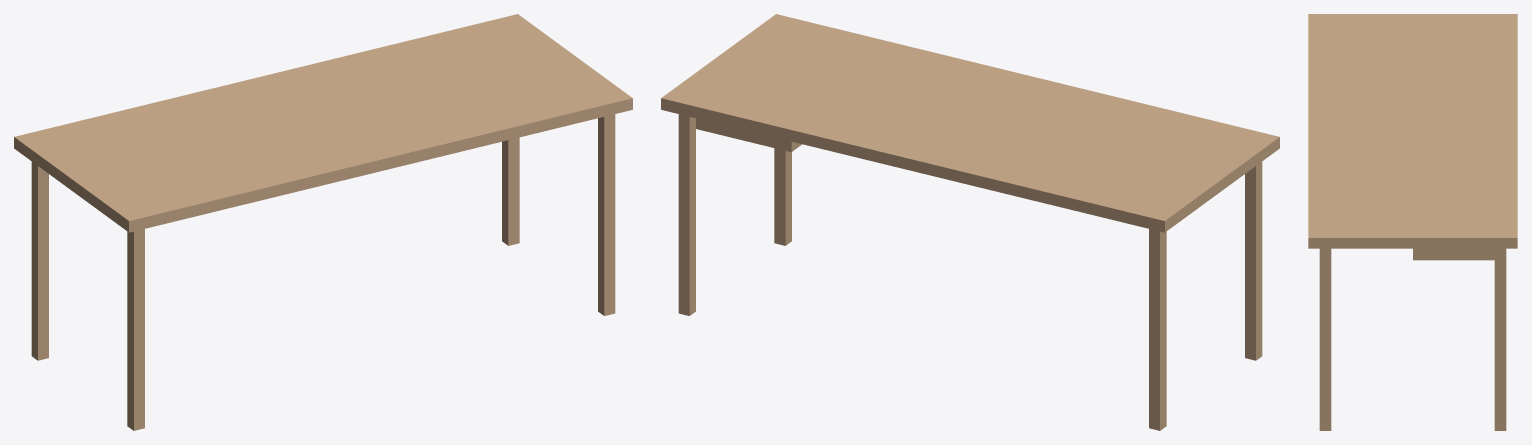
The model's file is desk_08.glb.
3 views of the same model, side by side, from view 1: azimuth 30°, elevation 25°; view 2: azimuth 150°, elevation 25°; view 3: azimuth 270°, elevation 25° (orthographic). The views are drawn at different scales.
Size of the model in its own units: 1.82 by 0.75 by 0.72.
